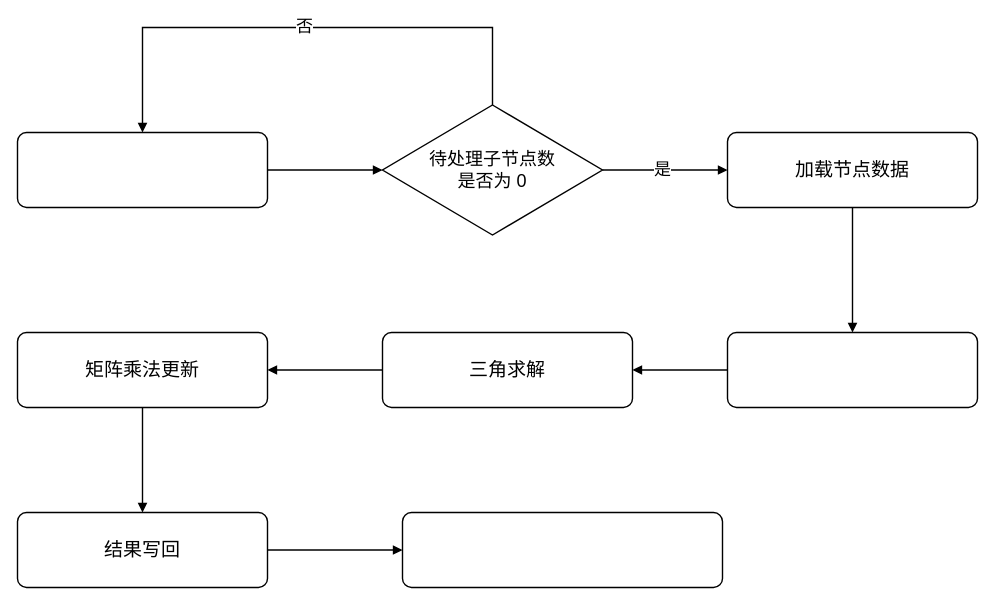
Some shapes in this 996 by 605 pixel diagram are drawn without their labels. The shapes that lost their labels are listed below. From the top down, each one's centre as x and y in pixels, then its label:
At (x=142, y=169): "读取节点任务".
At (x=852, y=369): "主元矩阵分解".
At (x=562, y=549): "更新父节点待处理子节点数".
